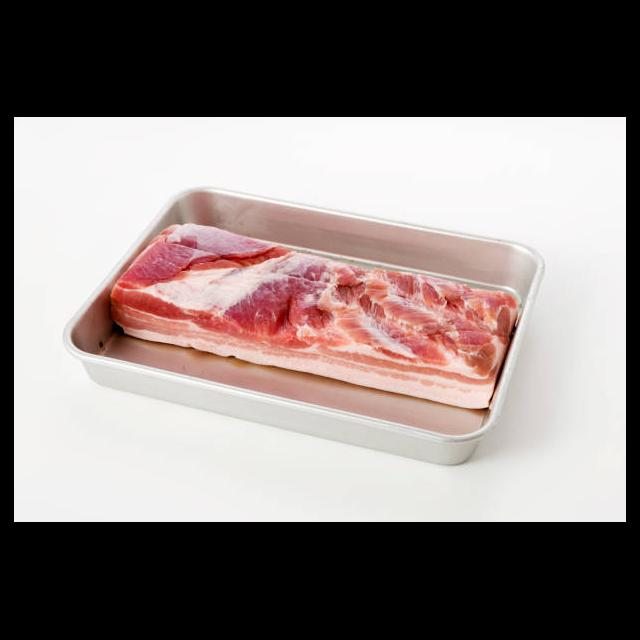pork: (291, 256, 502, 403), (122, 221, 298, 358)
